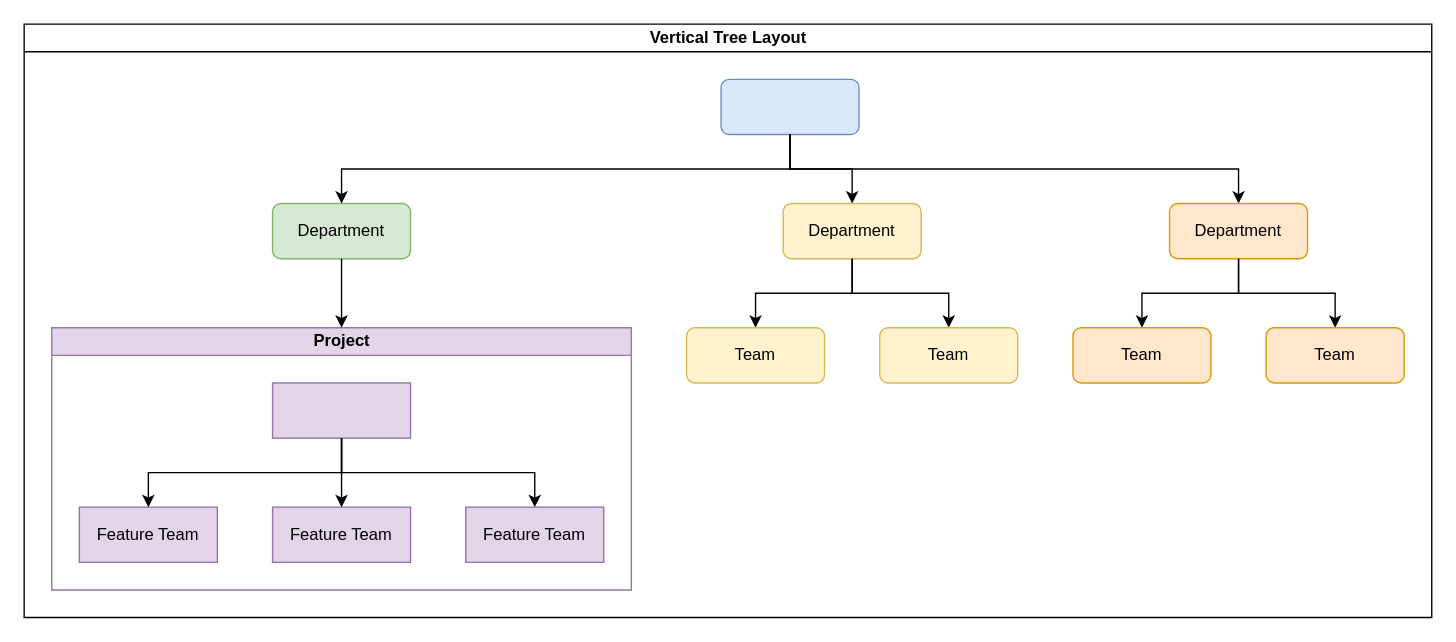
Image size: 1456x642. Some labels were removed from this diagram. The shapes that lost their labels are listed below. From the top down, each one's centre as x and y in pixels, then its label:
At (789,106): "Organisation".
At (341,410): "Project Manager".
